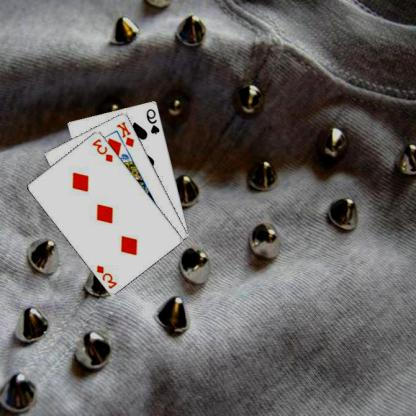3D: (91, 136, 116, 164), (96, 263, 120, 290)
9S: (145, 107, 163, 136)
KD: (116, 119, 137, 148)
